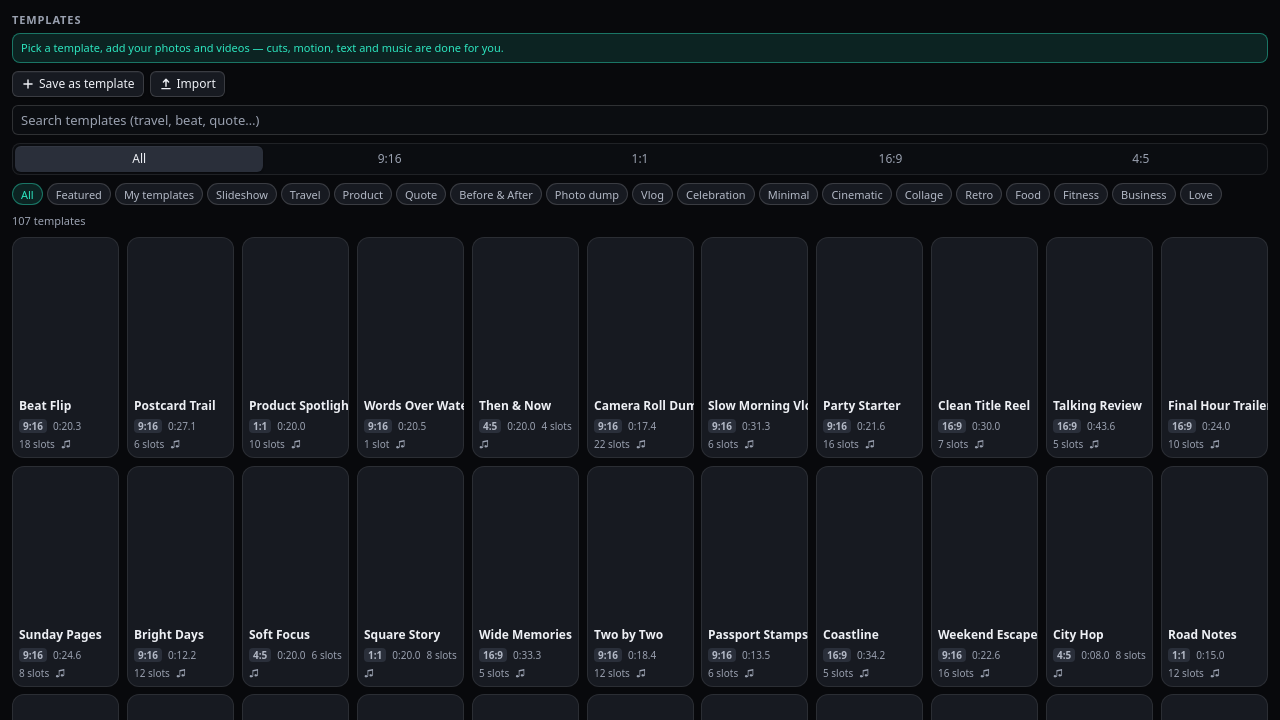
Templates panel — gallery › saves the current timeline as a template under My templates
Click the button "Save as template". click: (78, 84)
box: [12,71,144,97]
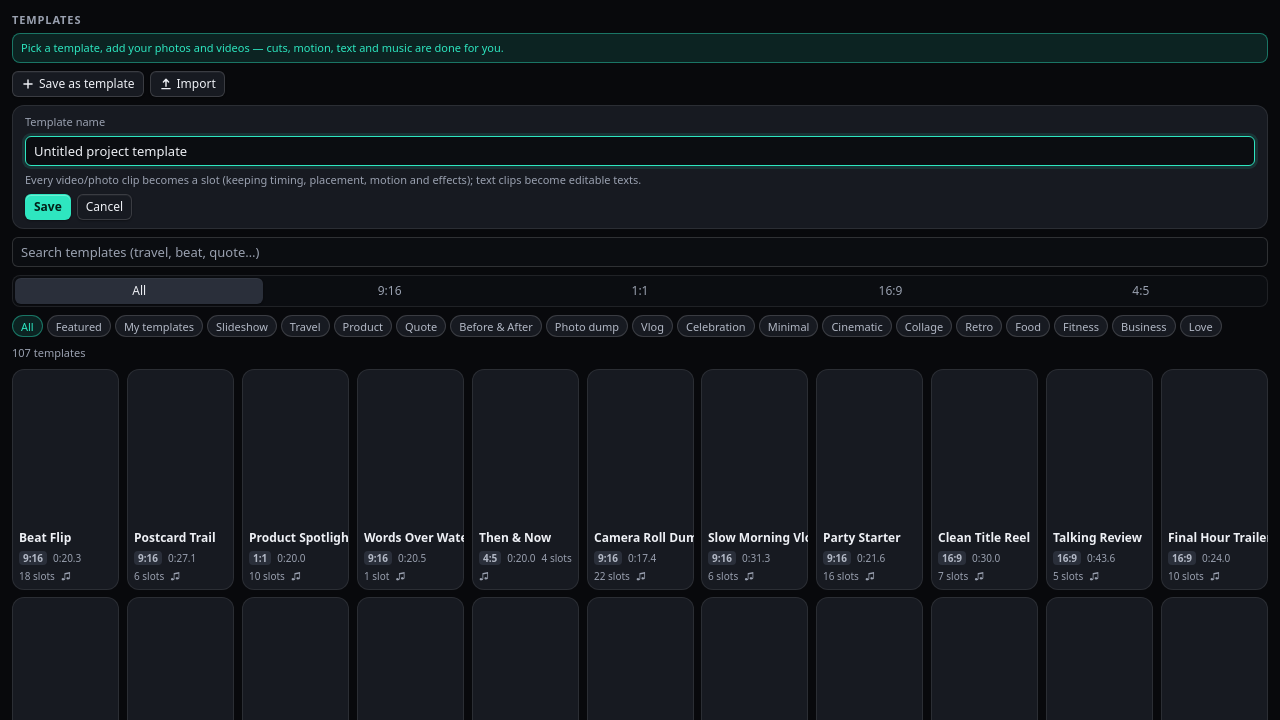
Replace the text in the field labelled "Template name" with "My reel". click: (640, 151)
box: [25,136,1255,166]
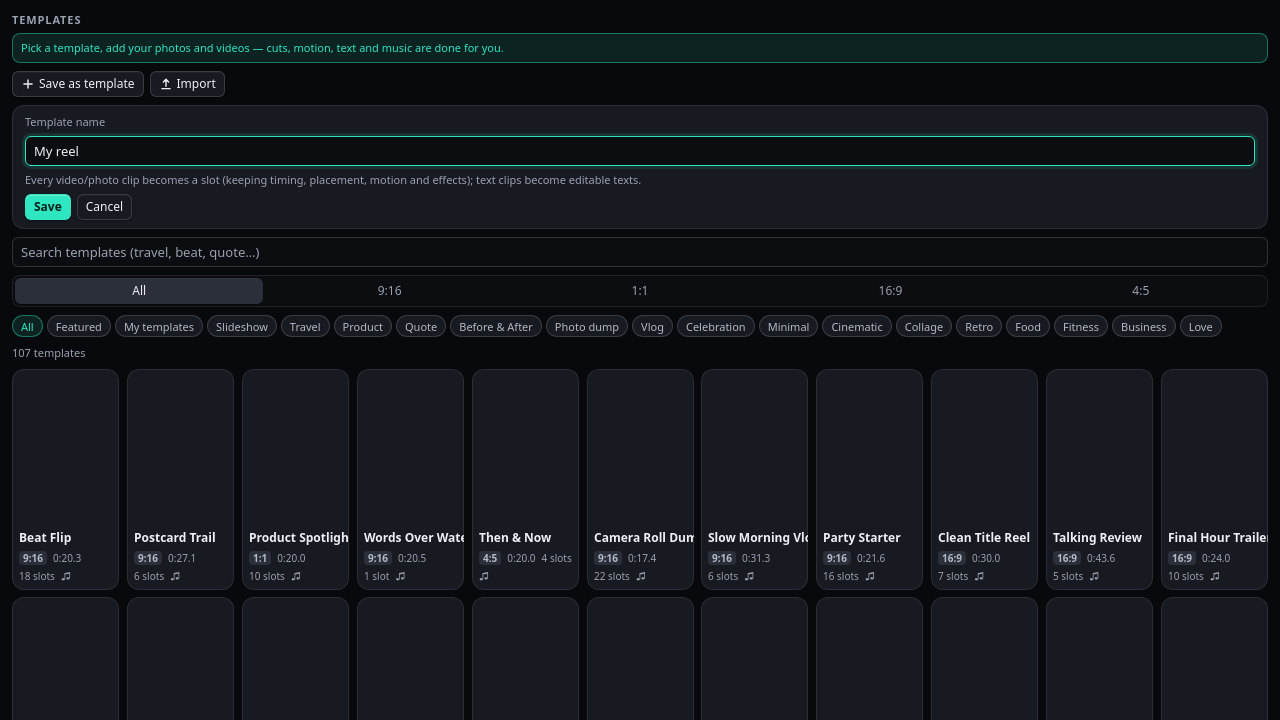
Click the button "Save". click: (48, 207)
box: [25,194,71,220]
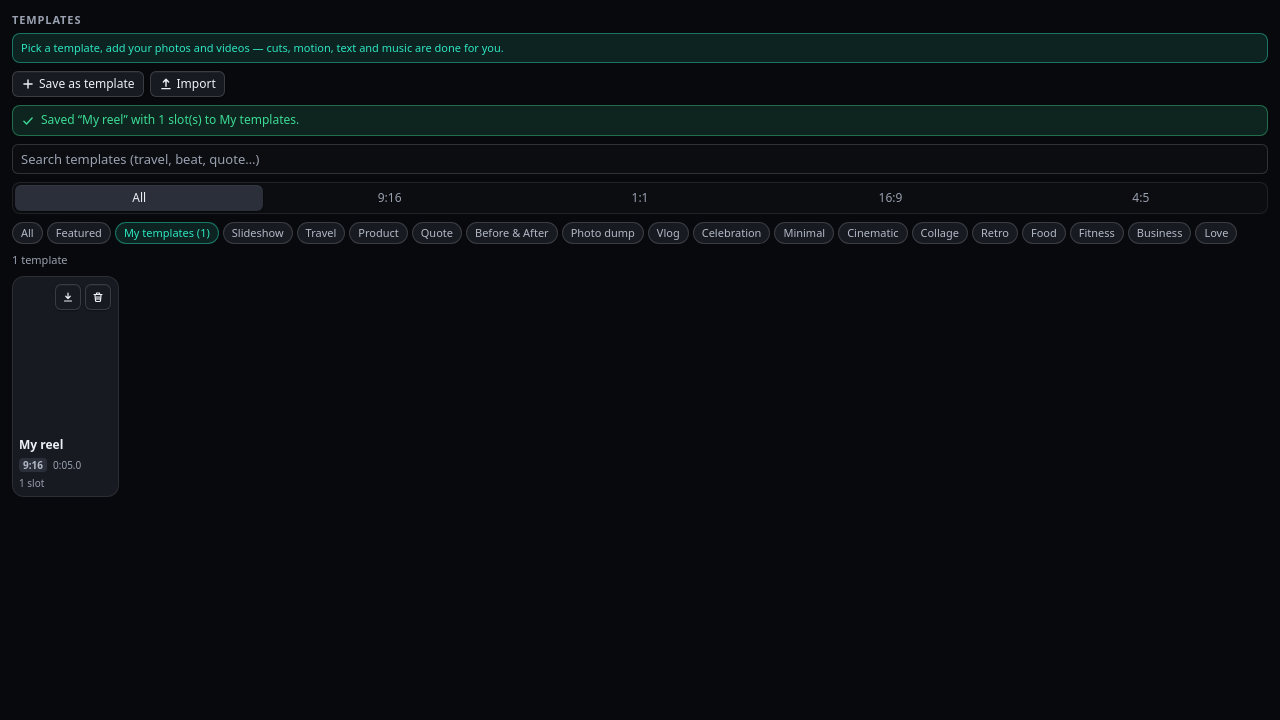
expect the text "Saved “My reel” with 1 slot(s) to My templates." is shown: met, box [41,112,299,129]
expect the button with aria-label "Open template My reel" is shown: met, box [12,276,119,496]
